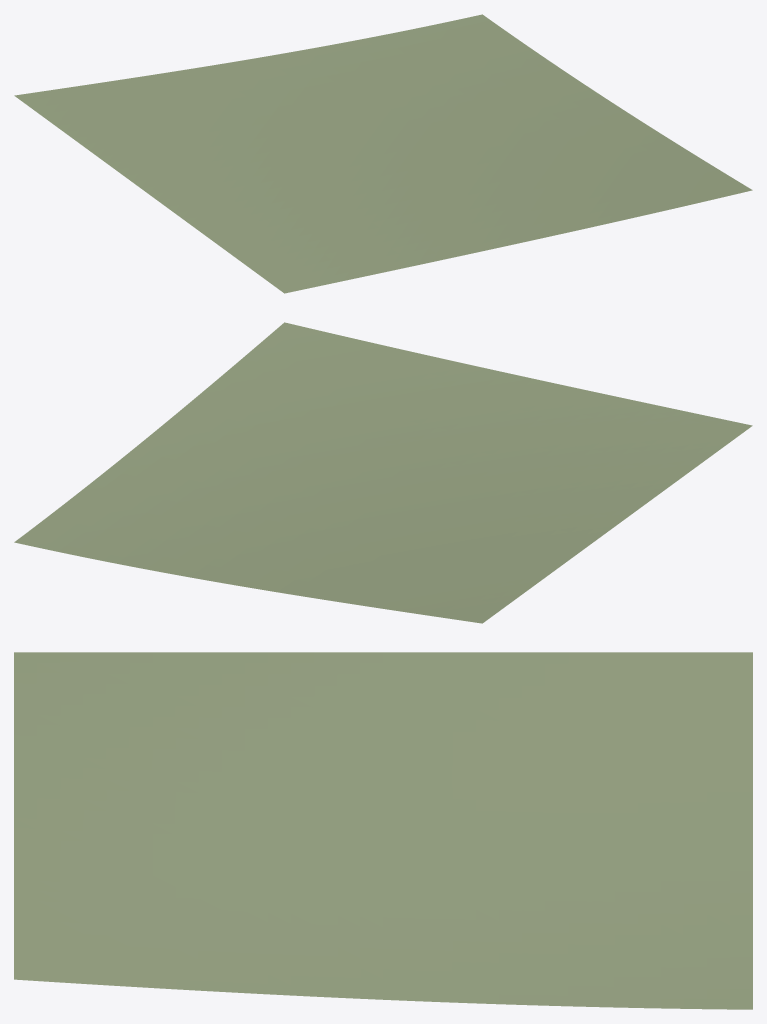
The model's file is canyon-0-3.glb.
3 views of the same model, one above another, from view 1: azimuth 30°, elevation 25°; view 2: azimuth 150°, elevation 25°; view 3: azimuth 270°, elevation 25° (orthographic). The views are drawn at different scales.
Parts seen in each view (by area): view 1: canyon-0-3; view 2: canyon-0-3; view 3: canyon-0-3.
Boxes of the visible parts, bbox=[...] form: canyon-0-3: bbox=[14, 14, 752, 293]; canyon-0-3: bbox=[14, 322, 752, 623]; canyon-0-3: bbox=[14, 652, 752, 1009].
Size of the model in its own units: 128 by 8.65 by 128.
